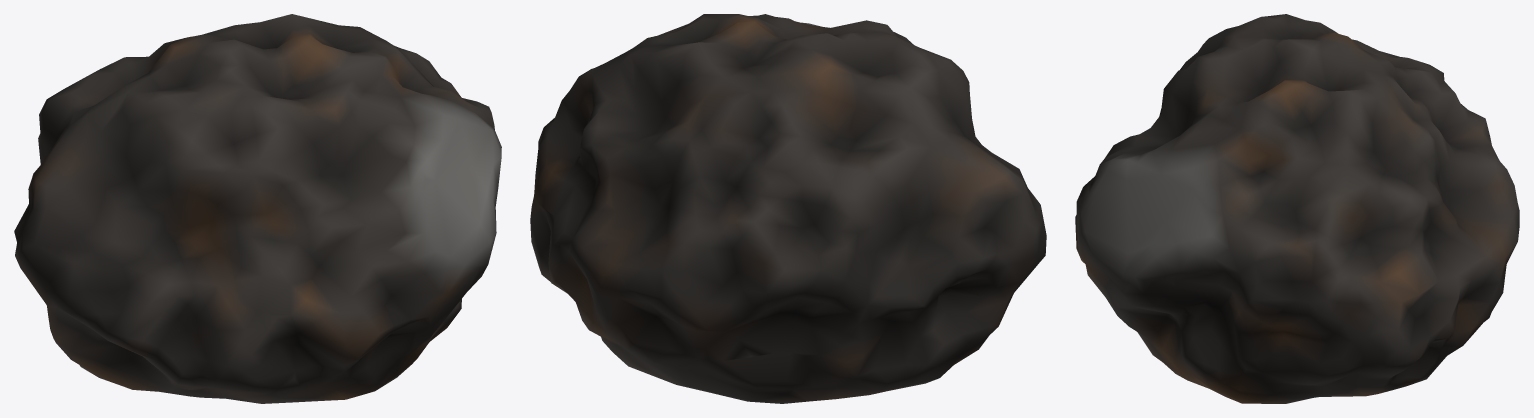
File: meteorite_fragment_c603f0ce.glb
3 views of the same model, side by side, from view 1: azimuth 30°, elevation 25°; view 2: azimuth 150°, elevation 25°; view 3: azimuth 270°, elevation 25° (orthographic). The views are drawn at different scales.
Visible parts, largest first — view 1: Meteorite_Fragment; view 2: Meteorite_Fragment; view 3: Meteorite_Fragment.
Boxes of the visible parts, box(x1,y1,x2,y2) form: Meteorite_Fragment: box(14, 14, 501, 403); Meteorite_Fragment: box(530, 14, 1046, 403); Meteorite_Fragment: box(1075, 14, 1519, 403).
Bounding box in the file's own units: 1.03 × 0.6909 × 0.9225.
